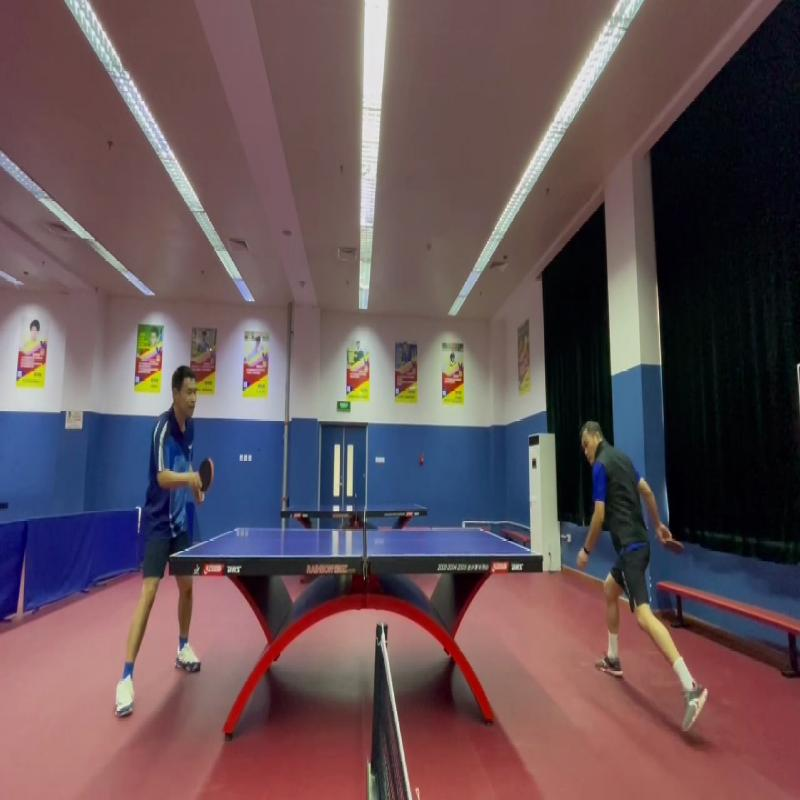bats: (188, 452, 218, 506)
